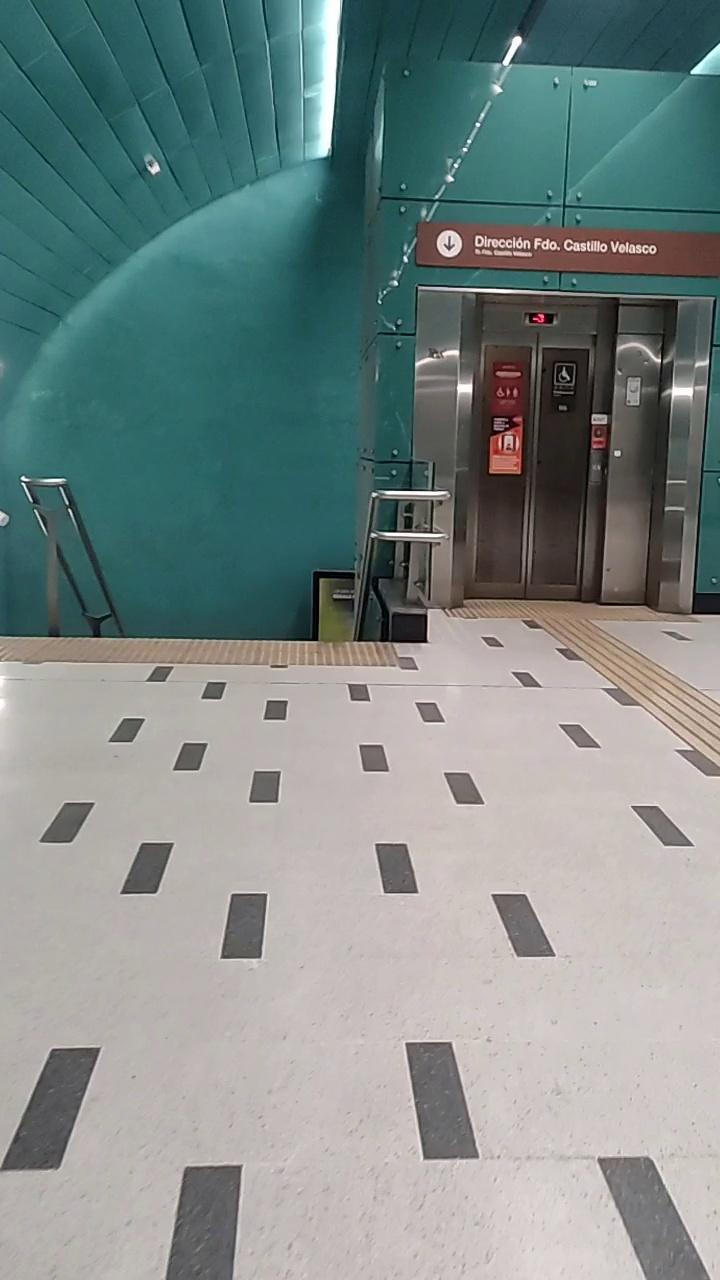down arrow: (442, 235, 458, 252)
handicapped symbol: (558, 366, 570, 382)
